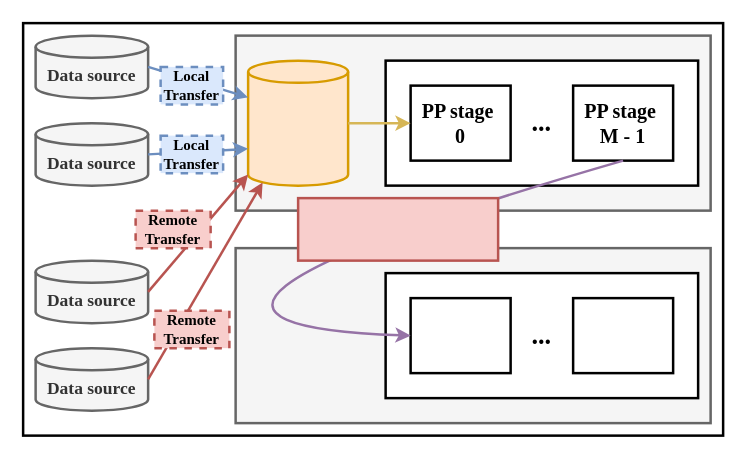
Image size: 745x458. Some labels were removed from this diagram. The shapes that lost their labels are listed below. From the top down, each one's centre as x and y in pixels, then its label:
the point at 297,122: Data Aggregating Entry
the point at 397,228: Cross DC Activation & Gradient Transfer
the point at 460,335: PP stage M
the point at 622,335: PP stage 2M - 1
